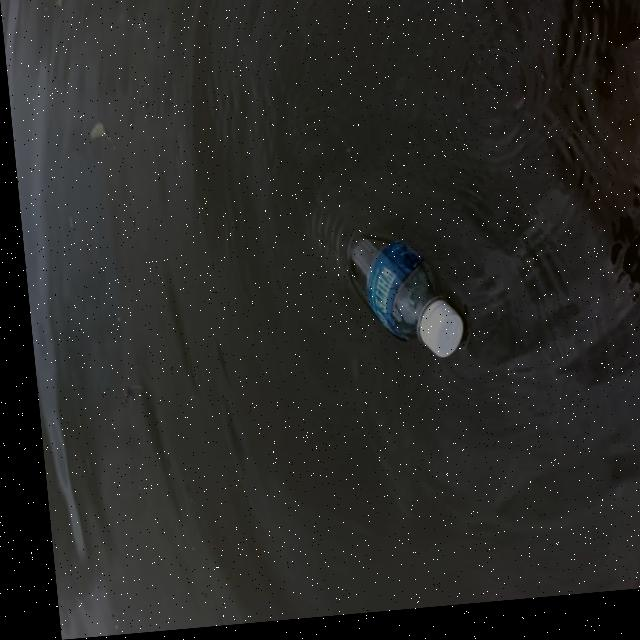waterbottle: (304, 182, 491, 410)
